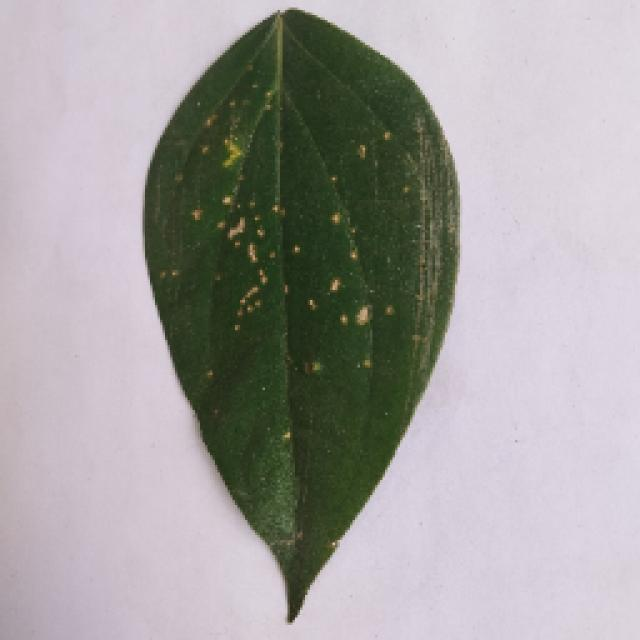pollu-disease: (112, 18, 480, 620)
